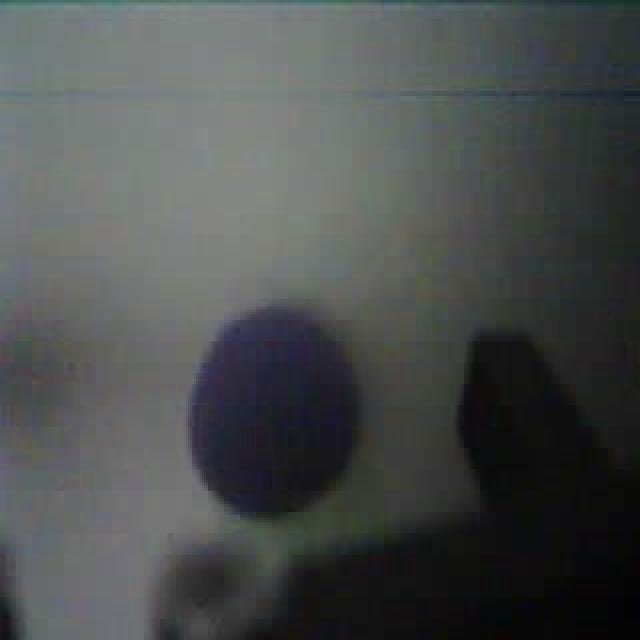blue_ball: (186, 296, 364, 520)
